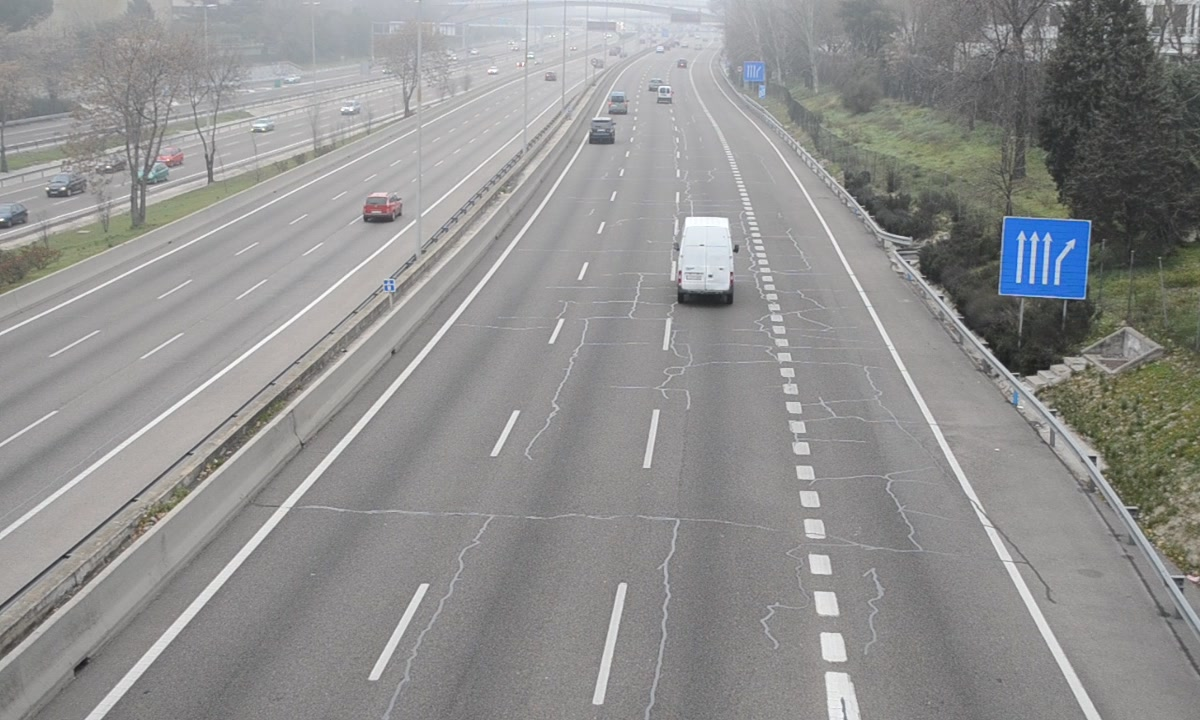car: (588, 117, 616, 142)
van: (676, 217, 735, 301)
